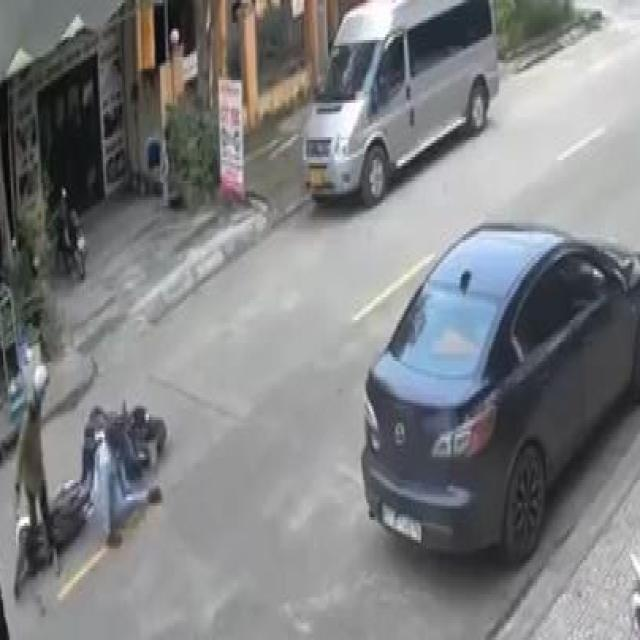accident: (8, 353, 173, 616)
